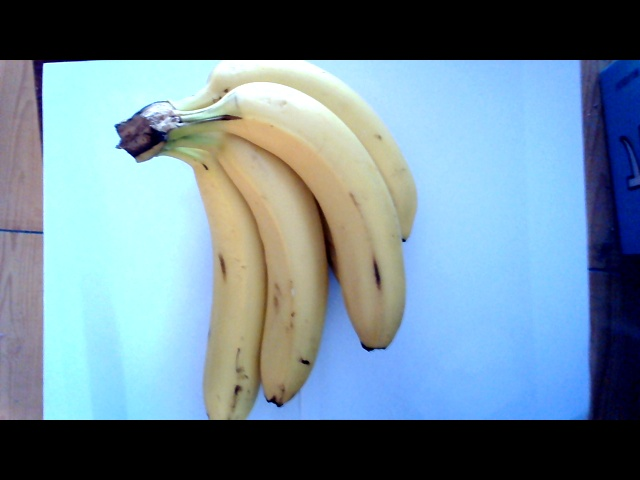banana: (127, 62, 427, 411)
